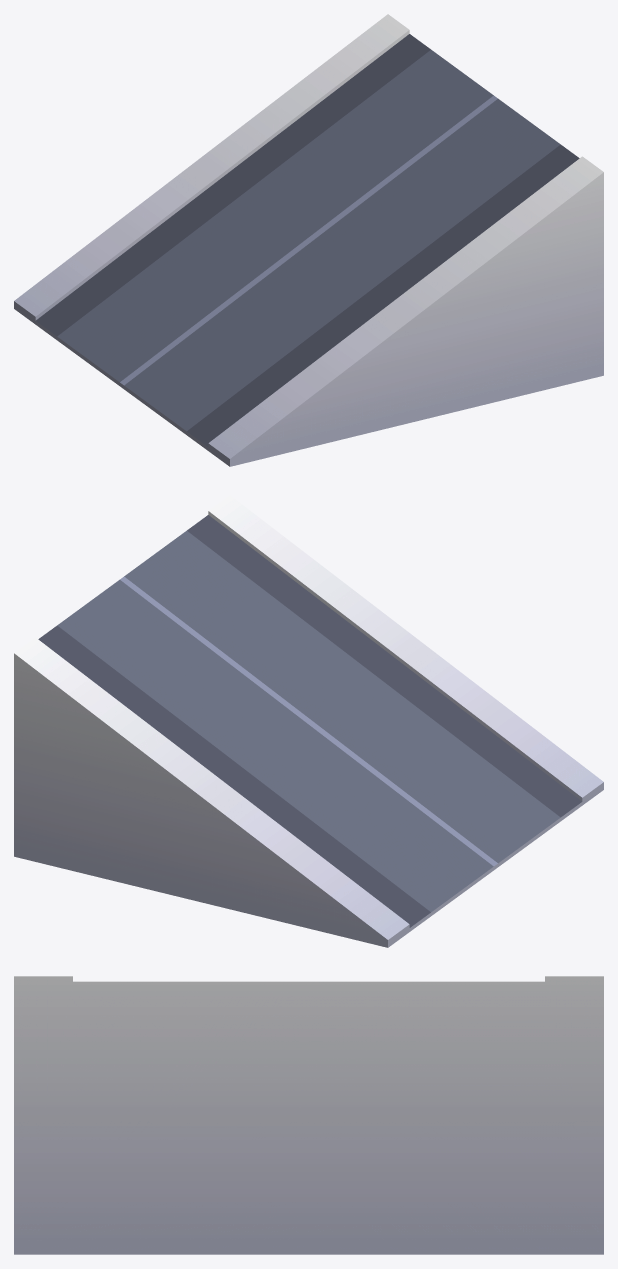
The model's file is road-slant-high.glb.
3 renders of one model, top to bottom at view 1: azimuth 30°, elevation 25°; view 2: azimuth 150°, elevation 25°; view 3: azimuth 270°, elevation 25°, orthographic. The views are drawn at different scales.
Visible parts, largest first — view 1: road-slant-high; view 2: road-slant-high; view 3: road-slant-high.
Boxes of the visible parts, x1,y1,x2,y2 form: road-slant-high: (14,14,603,466); road-slant-high: (14,495,603,947); road-slant-high: (14,976,603,1254).
Bounding box in the file's own units: 1 × 0.52 × 1.
Materials: 1 (1 with a texture image).
